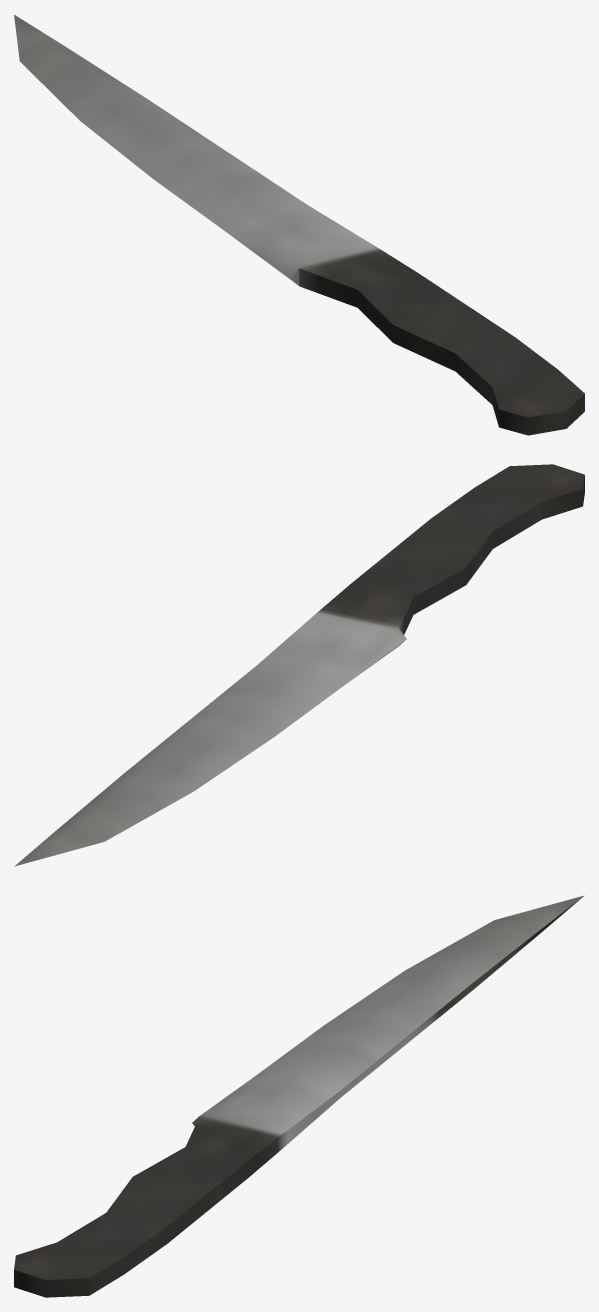
File: Knife_T02.FBX
The picture shows the model from 3 angles, top to bottom: view 1: azimuth 30°, elevation 25°; view 2: azimuth 150°, elevation 25°; view 3: azimuth 330°, elevation 25°; orthographic projection. The views are drawn at different scales.
Visible parts, largest first — view 1: Knife_T02; view 2: Knife_T02; view 3: Knife_T02.
Part boxes in pixels (<box>): Knife_T02: <box>14,14,584,435</box>; Knife_T02: <box>14,464,584,866</box>; Knife_T02: <box>14,895,584,1297</box>.
Bounding box in the file's own units: 2.23 × 0.5481 × 21.31.
